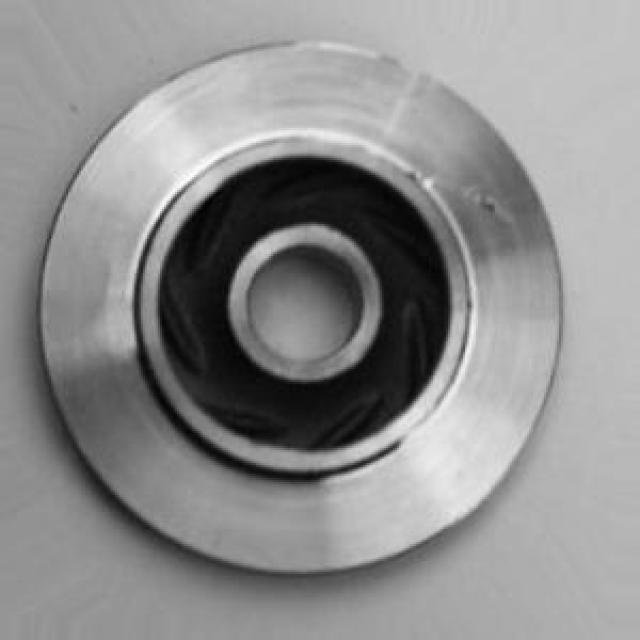Defect: (473, 184, 506, 237)
